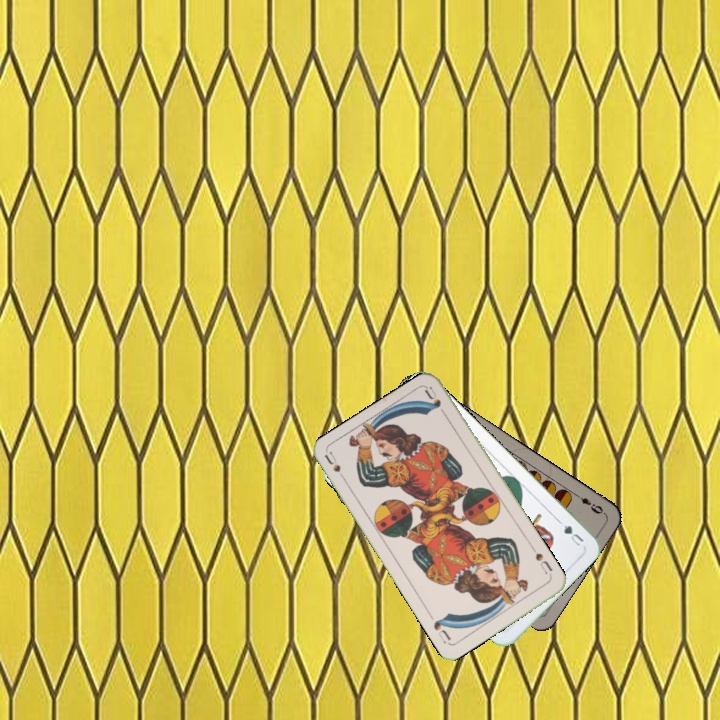E9: (571, 489, 606, 517)
GU: (560, 520, 586, 549)
SU: (321, 449, 350, 486), (528, 543, 555, 580)
